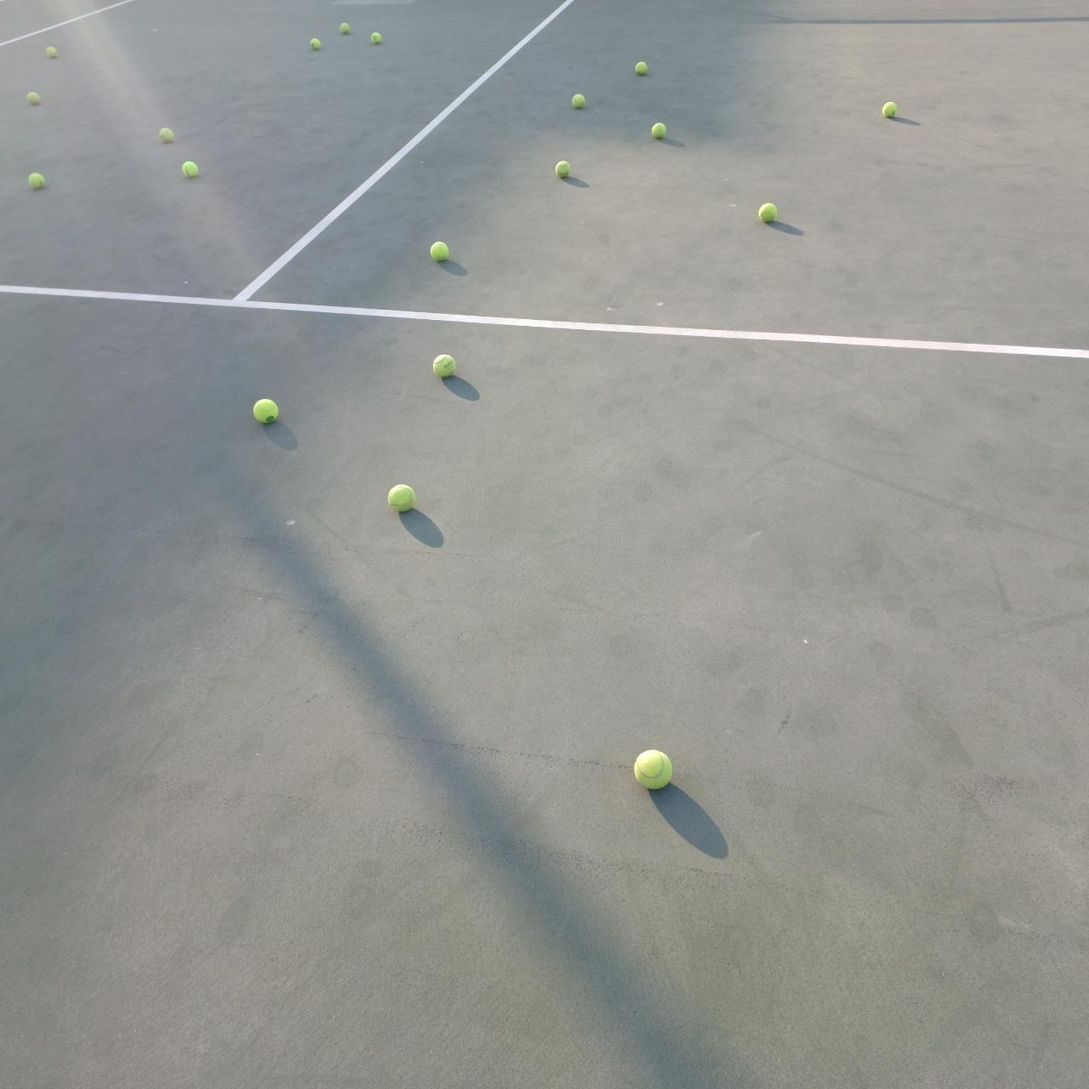tennis-ball: (632, 746, 673, 790), (385, 481, 416, 511), (251, 396, 279, 425), (430, 351, 456, 378), (757, 201, 778, 222), (429, 240, 449, 261), (26, 170, 44, 188), (650, 122, 667, 140), (181, 160, 198, 177), (157, 125, 174, 142), (882, 101, 898, 118), (555, 161, 571, 177), (572, 93, 586, 110), (26, 91, 40, 105), (635, 62, 648, 77), (45, 47, 57, 60), (339, 22, 351, 35), (371, 31, 382, 45), (309, 38, 321, 50)
